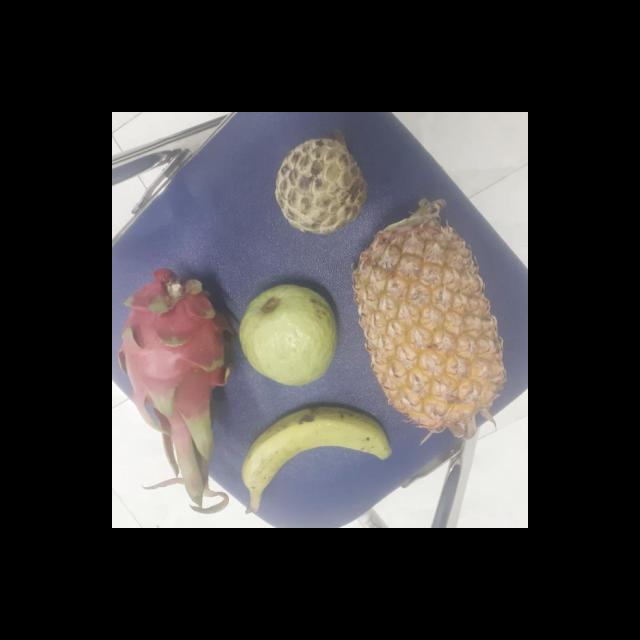Sakya fruit: (275, 138, 371, 236)
banana: (245, 409, 392, 503)
guava: (238, 285, 344, 389)
pineapple: (357, 209, 511, 436)
pitaya: (122, 272, 238, 435)
